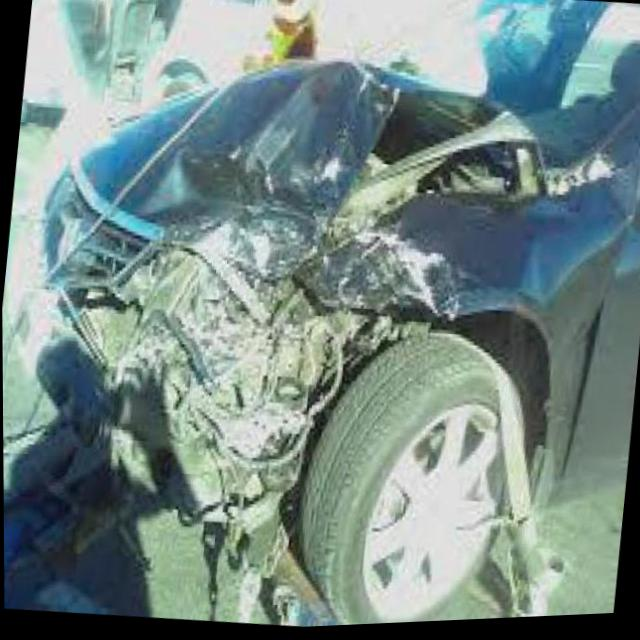Car-Damage: (16, 21, 640, 613)
